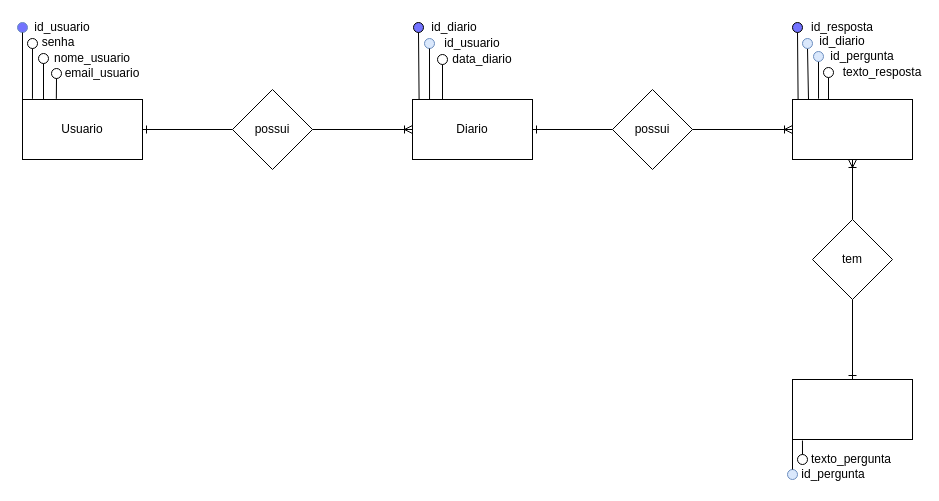
This 939x501 diagram has some shape labels left out. Here are the shapes that lost their labels. From the top down, the centre of each, then its label:
[852,129]: Resposta
[852,409]: Pergunta
